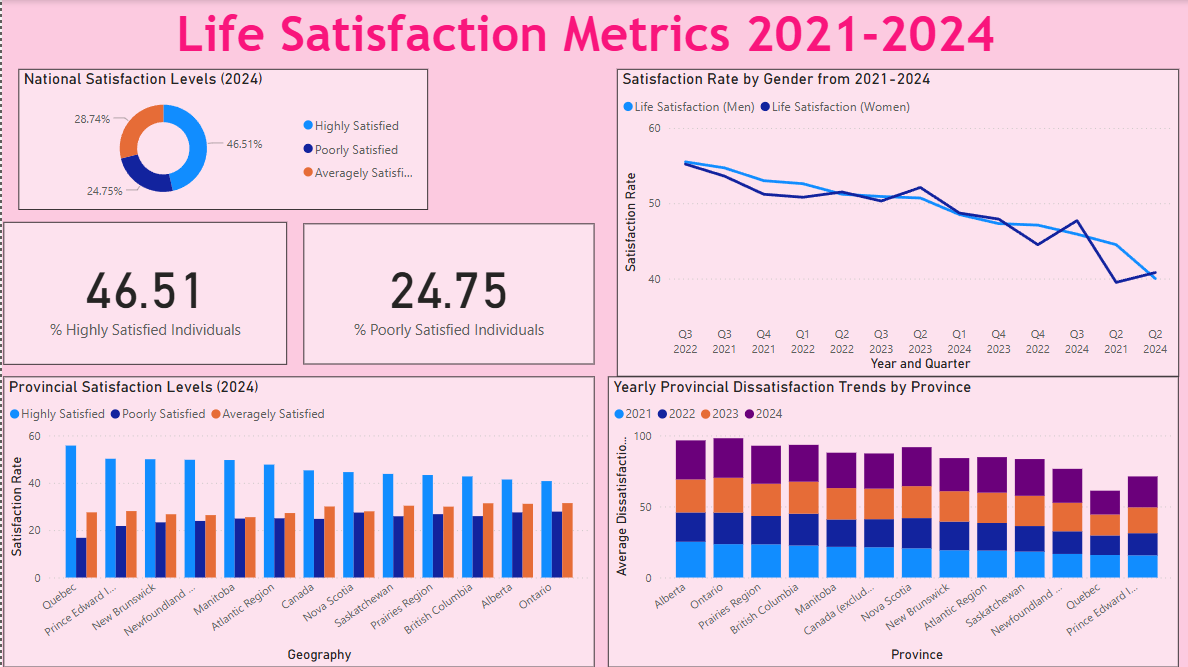

What the dashboard file says about the page in this screenshot:
{"tool":"powerbi","page":{"name":"Life Satisfaction","canvas":[1280,720],"ordinal":1},"visuals":[{"type":"lineChart","title":"Satisfaction Rate by Gender from 2021-2024","fields":{"Category":["highly_satisfied_by_gender.Period"],"Y":["Avg(highly_satisfied_by_gender.Men )","Avg(highly_satisfied_by_gender.Women)"]},"box":[664.2,74.1,606.5,332.1],"z":0},{"type":"columnChart","title":"Yearly Provincial Dissatisfaction Trends by Province","fields":{"Category":["people_not_satisfied_by_province.Geography"],"Y":["Avg(people_not_satisfied_by_province.2021)","Avg(people_not_satisfied_by_province.2022)","Avg(people_not_satisfied_by_province.2023)","Avg(people_not_satisfied_by_province.2024)"]},"box":[654,406,616,314],"z":1000},{"type":"donutChart","title":"National Satisfaction Levels (2024)","fields":{"Y":["Avg(satisfaction_by_province_2024 (3).Good)","Avg(satisfaction_by_province_2024 (3).Bad)","Avg(satisfaction_by_province_2024 (3).Average)"]},"box":[18,74,442,152],"z":2000},{"type":"card","fields":{"Values":["Avg(satisfaction_by_province_2024 (3).Good)"]},"box":[2,240,306,154],"z":3000},{"type":"card","fields":{"Values":["Avg(people_not_satisfied_by_province.2024)"]},"box":[326,242,314,152],"z":4000},{"type":"textbox","box":[0,0,1280,74],"z":5000},{"type":"clusteredColumnChart","title":"Provincial Satisfaction Levels (2024)","fields":{"Y":["Avg(satisfaction_by_province_2024 (3).Good)","Avg(satisfaction_by_province_2024 (3).Bad)","Avg(satisfaction_by_province_2024 (3).Average)"],"Category":["satisfaction_by_province_2024 (3).Geography"]},"box":[2,406,638,314],"z":6000}]}

Visuals, with their boxes in screenshot pixels (x1, y1, x2, y2), scaled from the page's 1280x720 canvas onto the 1188x667 screenshot:
"Satisfaction Rate by Gender from 2021-2024" lineChart: left=616, top=69, right=1179, bottom=376
"Yearly Provincial Dissatisfaction Trends by Province" columnChart: left=607, top=376, right=1179, bottom=666
"National Satisfaction Levels (2024)" donutChart: left=17, top=69, right=427, bottom=209
card - Avg(satisfaction_by_province_2024 (3).Good): left=2, top=222, right=286, bottom=365
card - Avg(people_not_satisfied_by_province.2024): left=303, top=224, right=594, bottom=365
textbox: left=0, top=0, right=1187, bottom=69
"Provincial Satisfaction Levels (2024)" clusteredColumnChart: left=2, top=376, right=594, bottom=666
